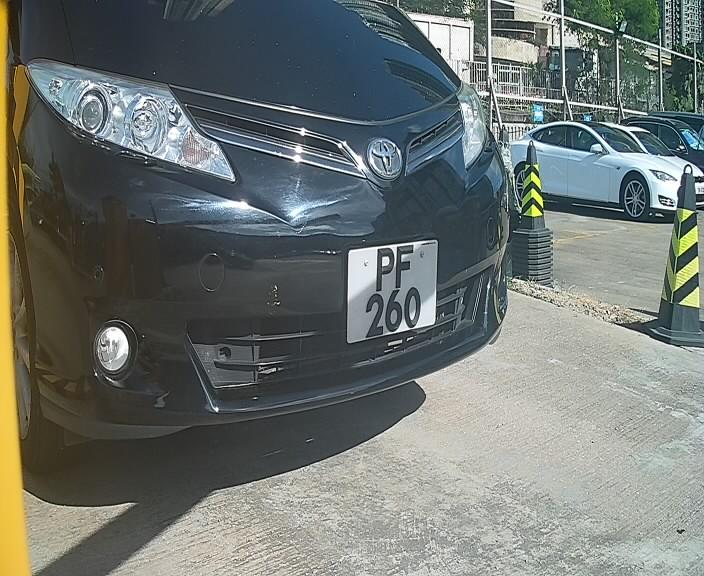Car: (7, 8, 554, 502)
License Plate: (337, 229, 447, 355)
